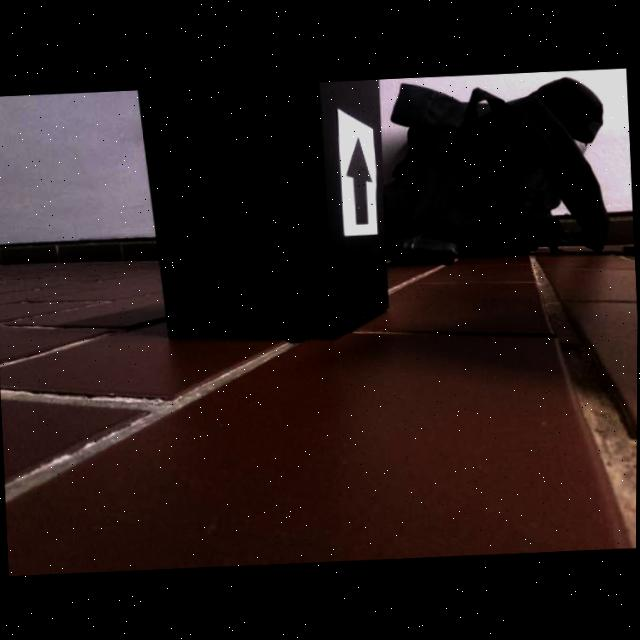UP: (345, 134, 373, 225)
